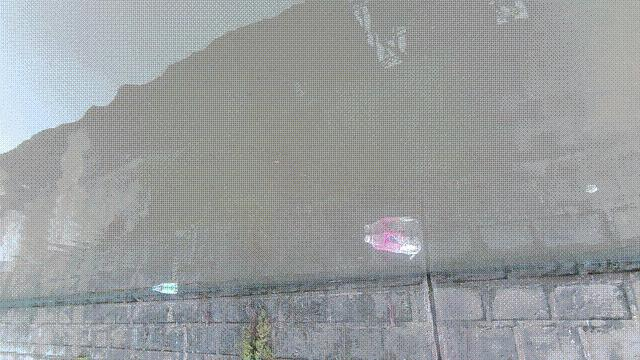Plastic: (361, 225, 421, 255), (155, 279, 180, 295)
